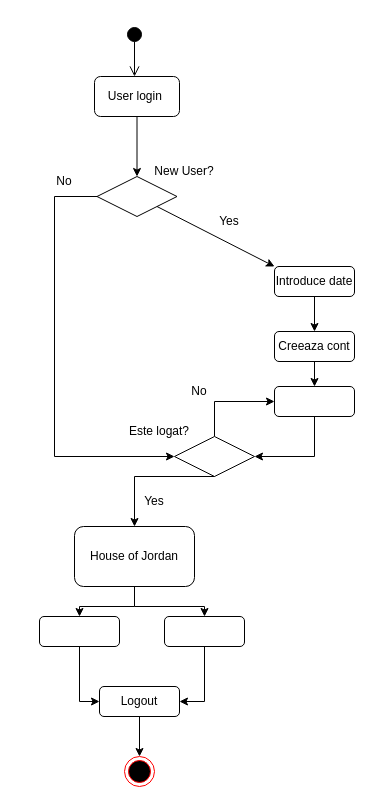
Image size: 372x804. Some labels were removed from this diagram. The centre of each missing label's shape, as x and y in pixels:
"Add Sneaker" goes at point (79, 631).
"Delete Sneaker" goes at point (204, 631).
"Login" goes at point (314, 401).
